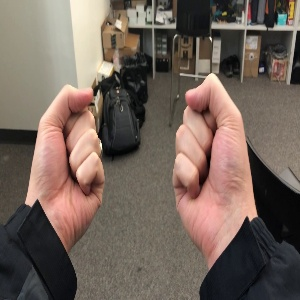hand: (173, 73, 257, 238), (28, 83, 105, 233)
